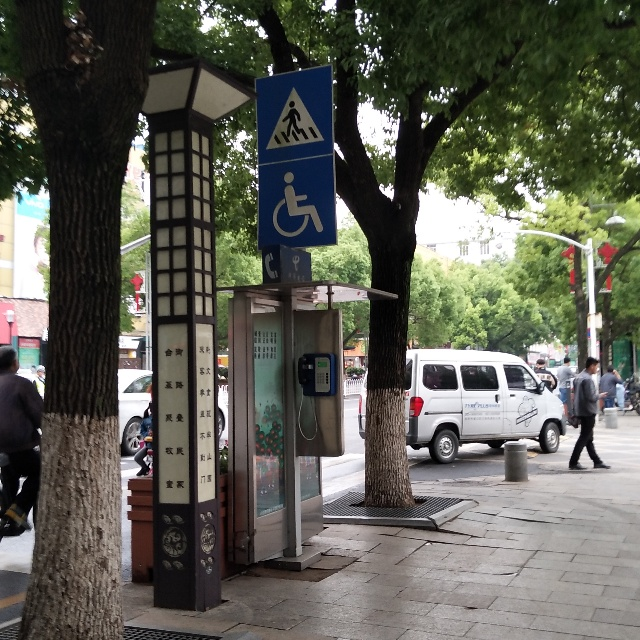crosswalk: (255, 78, 328, 157)
